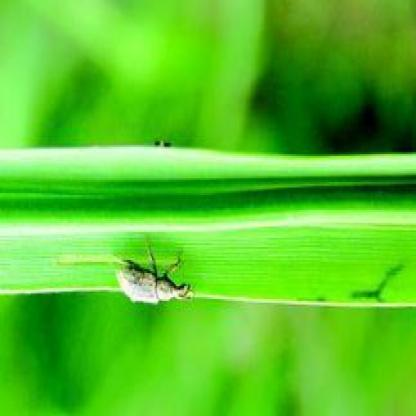rice-bug: (116, 246, 192, 307)
